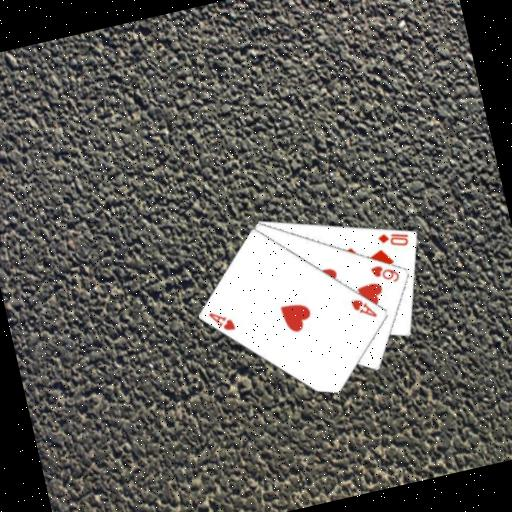10D: (374, 225, 412, 253)
6H: (367, 258, 402, 288)
AH: (347, 292, 380, 324), (205, 305, 237, 337)
